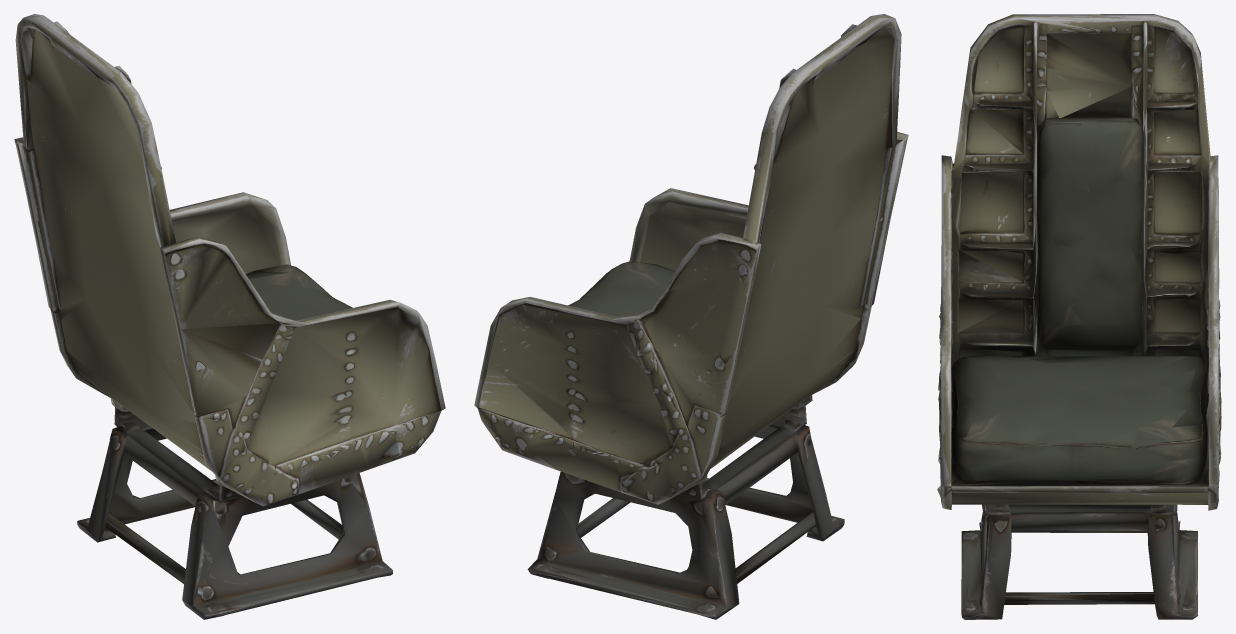
The model's file is ck_seat.glb.
3 views of the same model, side by side, from view 1: azimuth 30°, elevation 25°; view 2: azimuth 150°, elevation 25°; view 3: azimuth 270°, elevation 25° (orthographic). The views are drawn at different scales.
Visible parts, largest first — view 1: tripo_node_18ffb0ef-74bb-4ede-8d25-490f9b152fc9; view 2: tripo_node_18ffb0ef-74bb-4ede-8d25-490f9b152fc9; view 3: tripo_node_18ffb0ef-74bb-4ede-8d25-490f9b152fc9.
Boxes of the visible parts, <box> form: tripo_node_18ffb0ef-74bb-4ede-8d25-490f9b152fc9: <box>14,14,445,619</box>; tripo_node_18ffb0ef-74bb-4ede-8d25-490f9b152fc9: <box>474,14,908,619</box>; tripo_node_18ffb0ef-74bb-4ede-8d25-490f9b152fc9: <box>937,14,1221,619</box>.
Size of the model in its own units: 0.5684 by 0.9992 by 0.5212.
1 material, 1 textured.
